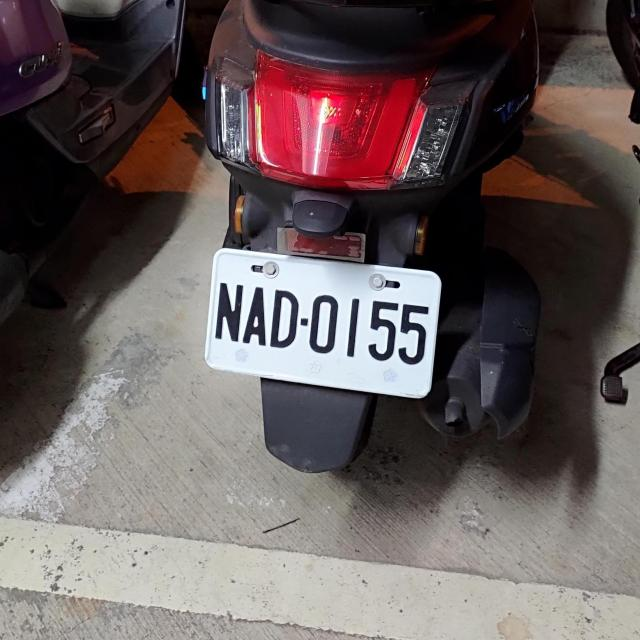W: (201, 247, 443, 396)
